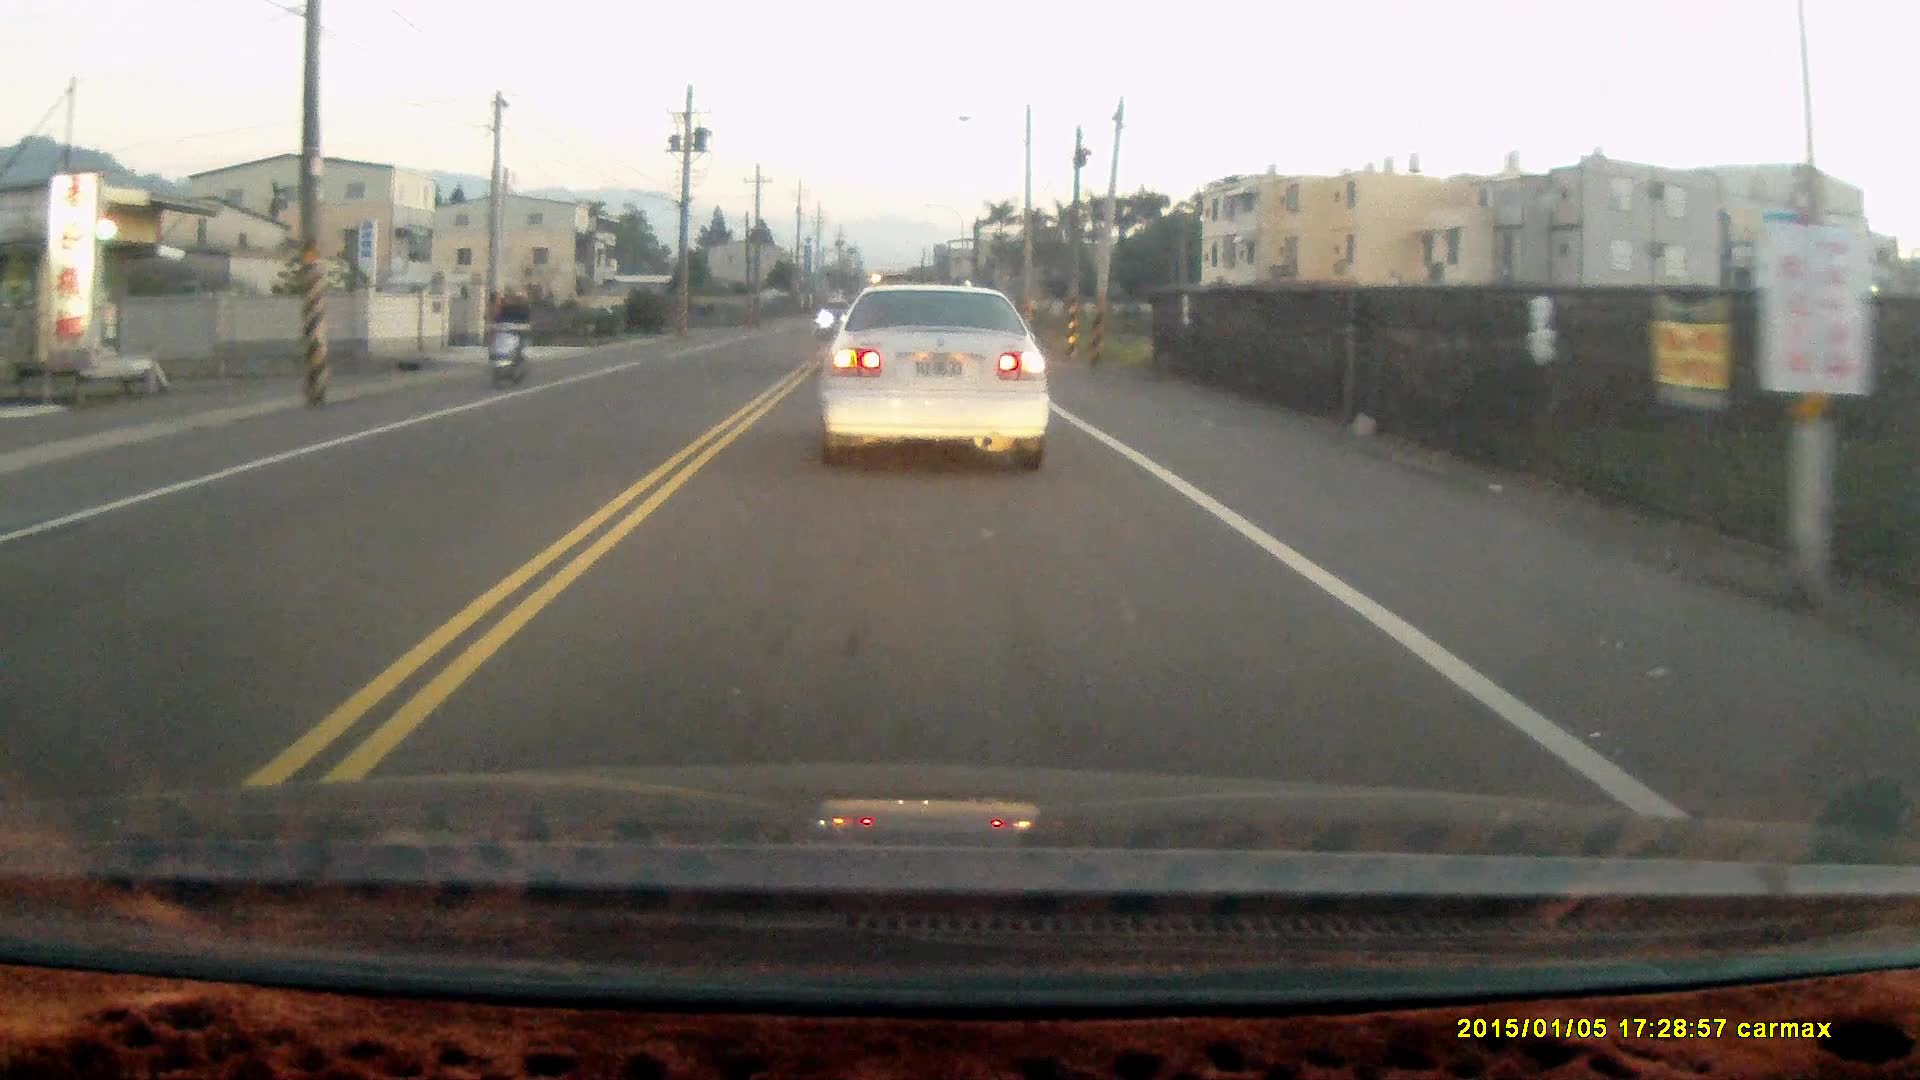rider: (484, 286, 533, 396)
vehicle: (814, 282, 1052, 474)
